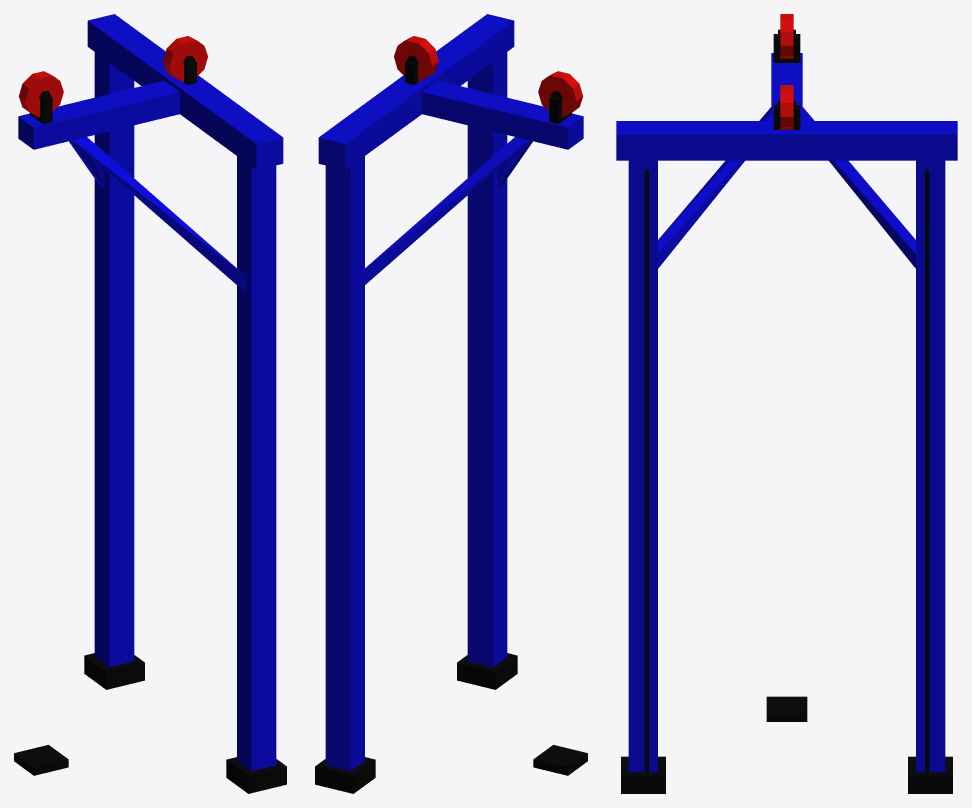
File: SM_TN_AscensorMarco.fbx
3 renders of one model, left to right at view 1: azimuth 30°, elevation 25°; view 2: azimuth 150°, elevation 25°; view 3: azimuth 270°, elevation 25°, orthographic.
Parts seen in each view (by area): view 1: SM_TN_AscensorMarco; view 2: SM_TN_AscensorMarco; view 3: SM_TN_AscensorMarco.
Part boxes in pixels (left/top/right/bottom): SM_TN_AscensorMarco: left=14, top=14, right=286, bottom=793; SM_TN_AscensorMarco: left=315, top=14, right=587, bottom=793; SM_TN_AscensorMarco: left=616, top=14, right=957, bottom=793.
Size of what is drawn, in the model's own units: 190 by 685 by 304.
